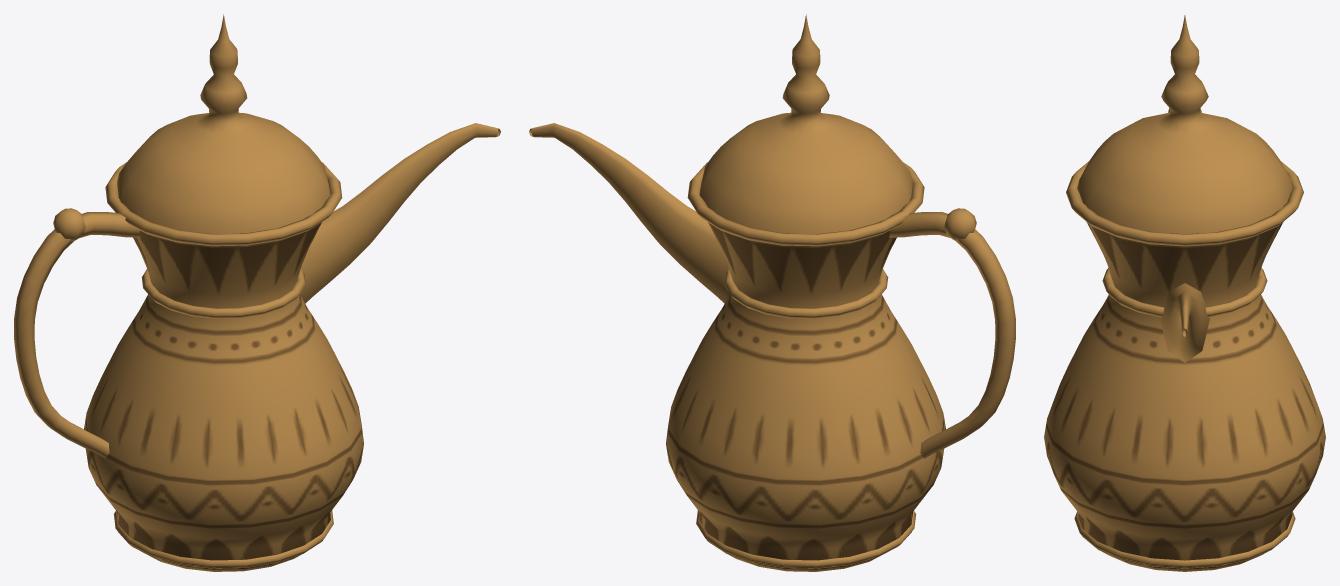
The model's file is prop-dallah.glb.
The picture shows the model from 3 angles, left to right: view 1: azimuth 30°, elevation 25°; view 2: azimuth 150°, elevation 25°; view 3: azimuth 270°, elevation 25°; orthographic projection.
Parts seen in each view (by area): view 1: piece_EngravedBrass, piece_Brass; view 2: piece_EngravedBrass, piece_Brass; view 3: piece_EngravedBrass, piece_Brass.
Boxes of the visible parts, x1,y1,x2,y2 form: piece_EngravedBrass: [84, 222, 363, 571]; piece_Brass: [14, 14, 500, 568]; piece_EngravedBrass: [666, 222, 945, 571]; piece_Brass: [529, 14, 1015, 568]; piece_EngravedBrass: [1044, 222, 1325, 571]; piece_Brass: [1066, 15, 1303, 568].
Size of the model in its own units: 0.2981 by 0.305 by 0.1504.
Materials: 2 (1 with a texture image).
